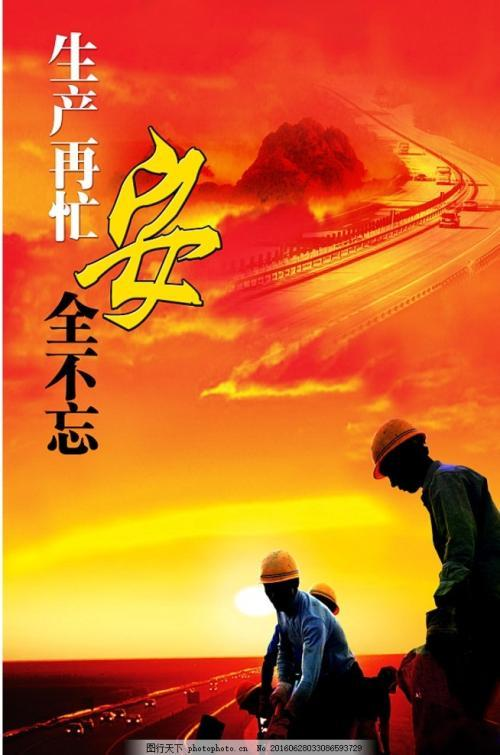helmet: (354, 412, 433, 476), (256, 543, 304, 592), (310, 580, 357, 618)
